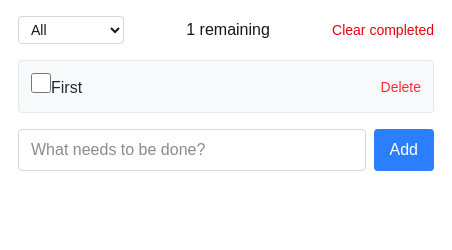
TodoList › should add todo when add button is clicked
In the field named "New todo text": (192, 150) [18,129,366,171], type "Second"
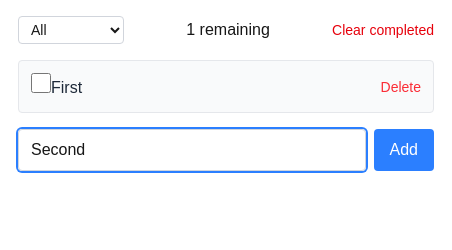
Click the button "Add": (404, 150) [374,129,434,171]
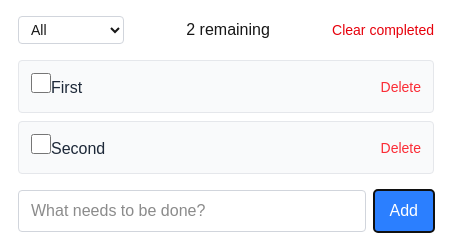
Expected: the checkbox labelled "First" is shown, [31,73,51,93]
Now the checkbox labelled "Second" is not checked, box [31,134,51,154]
Now the field named "New todo text" is empty, box [18,190,366,232]
